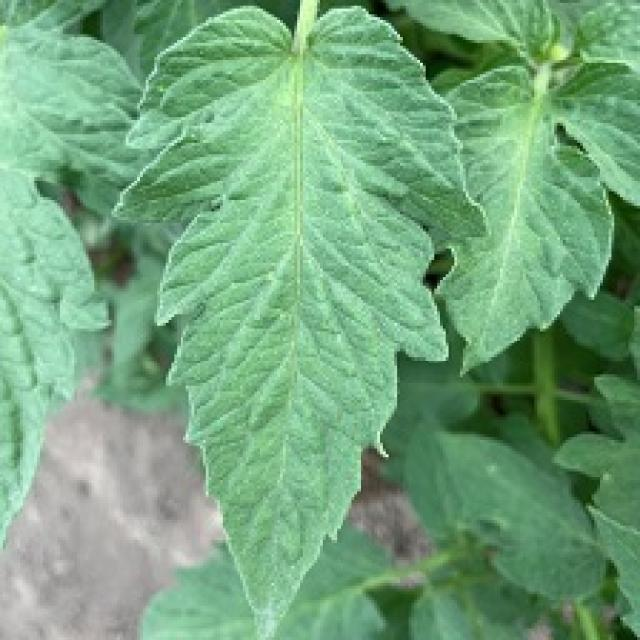Healthy: (70, 0, 585, 639), (382, 49, 640, 370)
